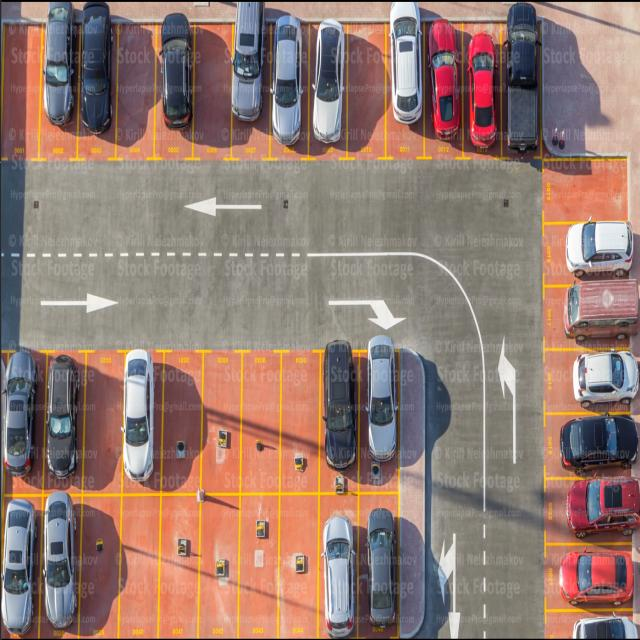cars: (559, 412, 639, 476), (504, 1, 538, 150), (563, 278, 639, 344), (1, 498, 37, 637), (42, 490, 77, 629), (566, 475, 640, 539), (120, 348, 155, 483), (2, 349, 38, 478), (322, 339, 356, 470), (230, 1, 266, 122), (558, 549, 634, 606), (80, 0, 112, 135), (320, 515, 355, 638), (311, 18, 345, 144), (42, 0, 76, 126), (389, 0, 423, 124), (46, 354, 80, 478), (572, 349, 640, 411), (427, 18, 461, 142), (565, 218, 634, 279), (270, 15, 302, 146), (367, 334, 398, 463), (160, 12, 193, 129), (366, 507, 396, 627), (467, 32, 497, 149), (572, 614, 639, 638)
